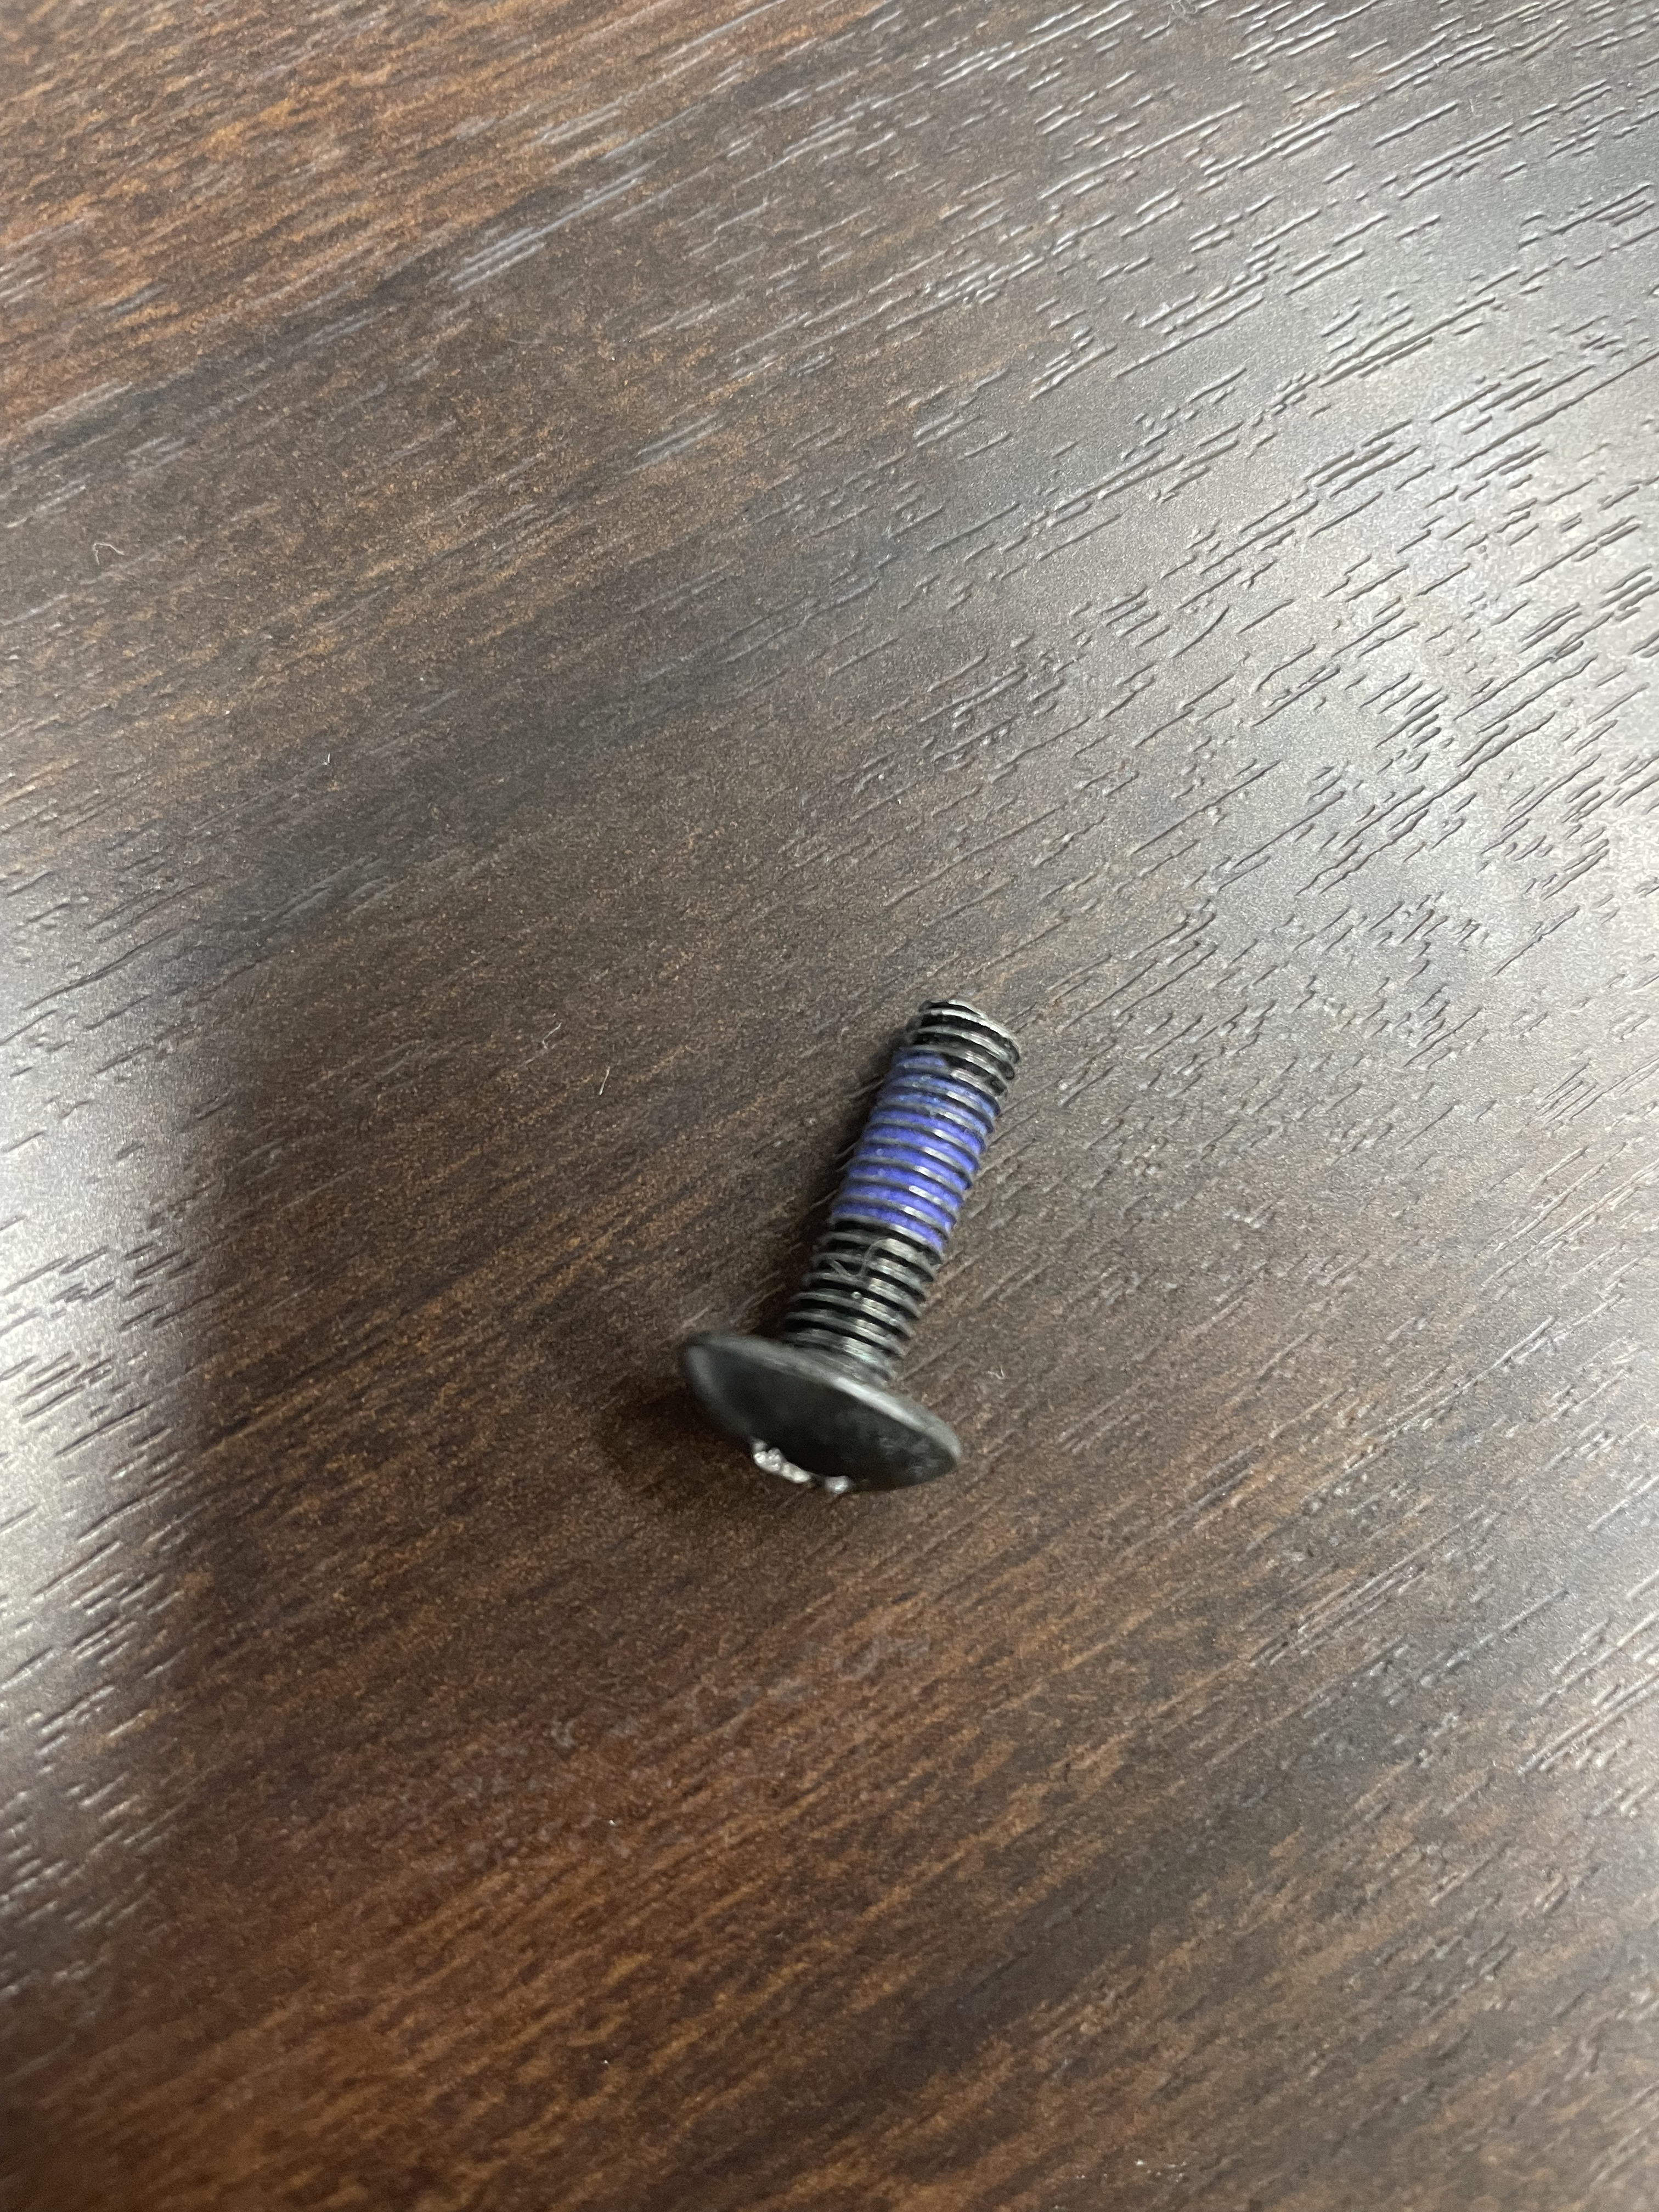screw1: (666, 997, 1028, 1504)
